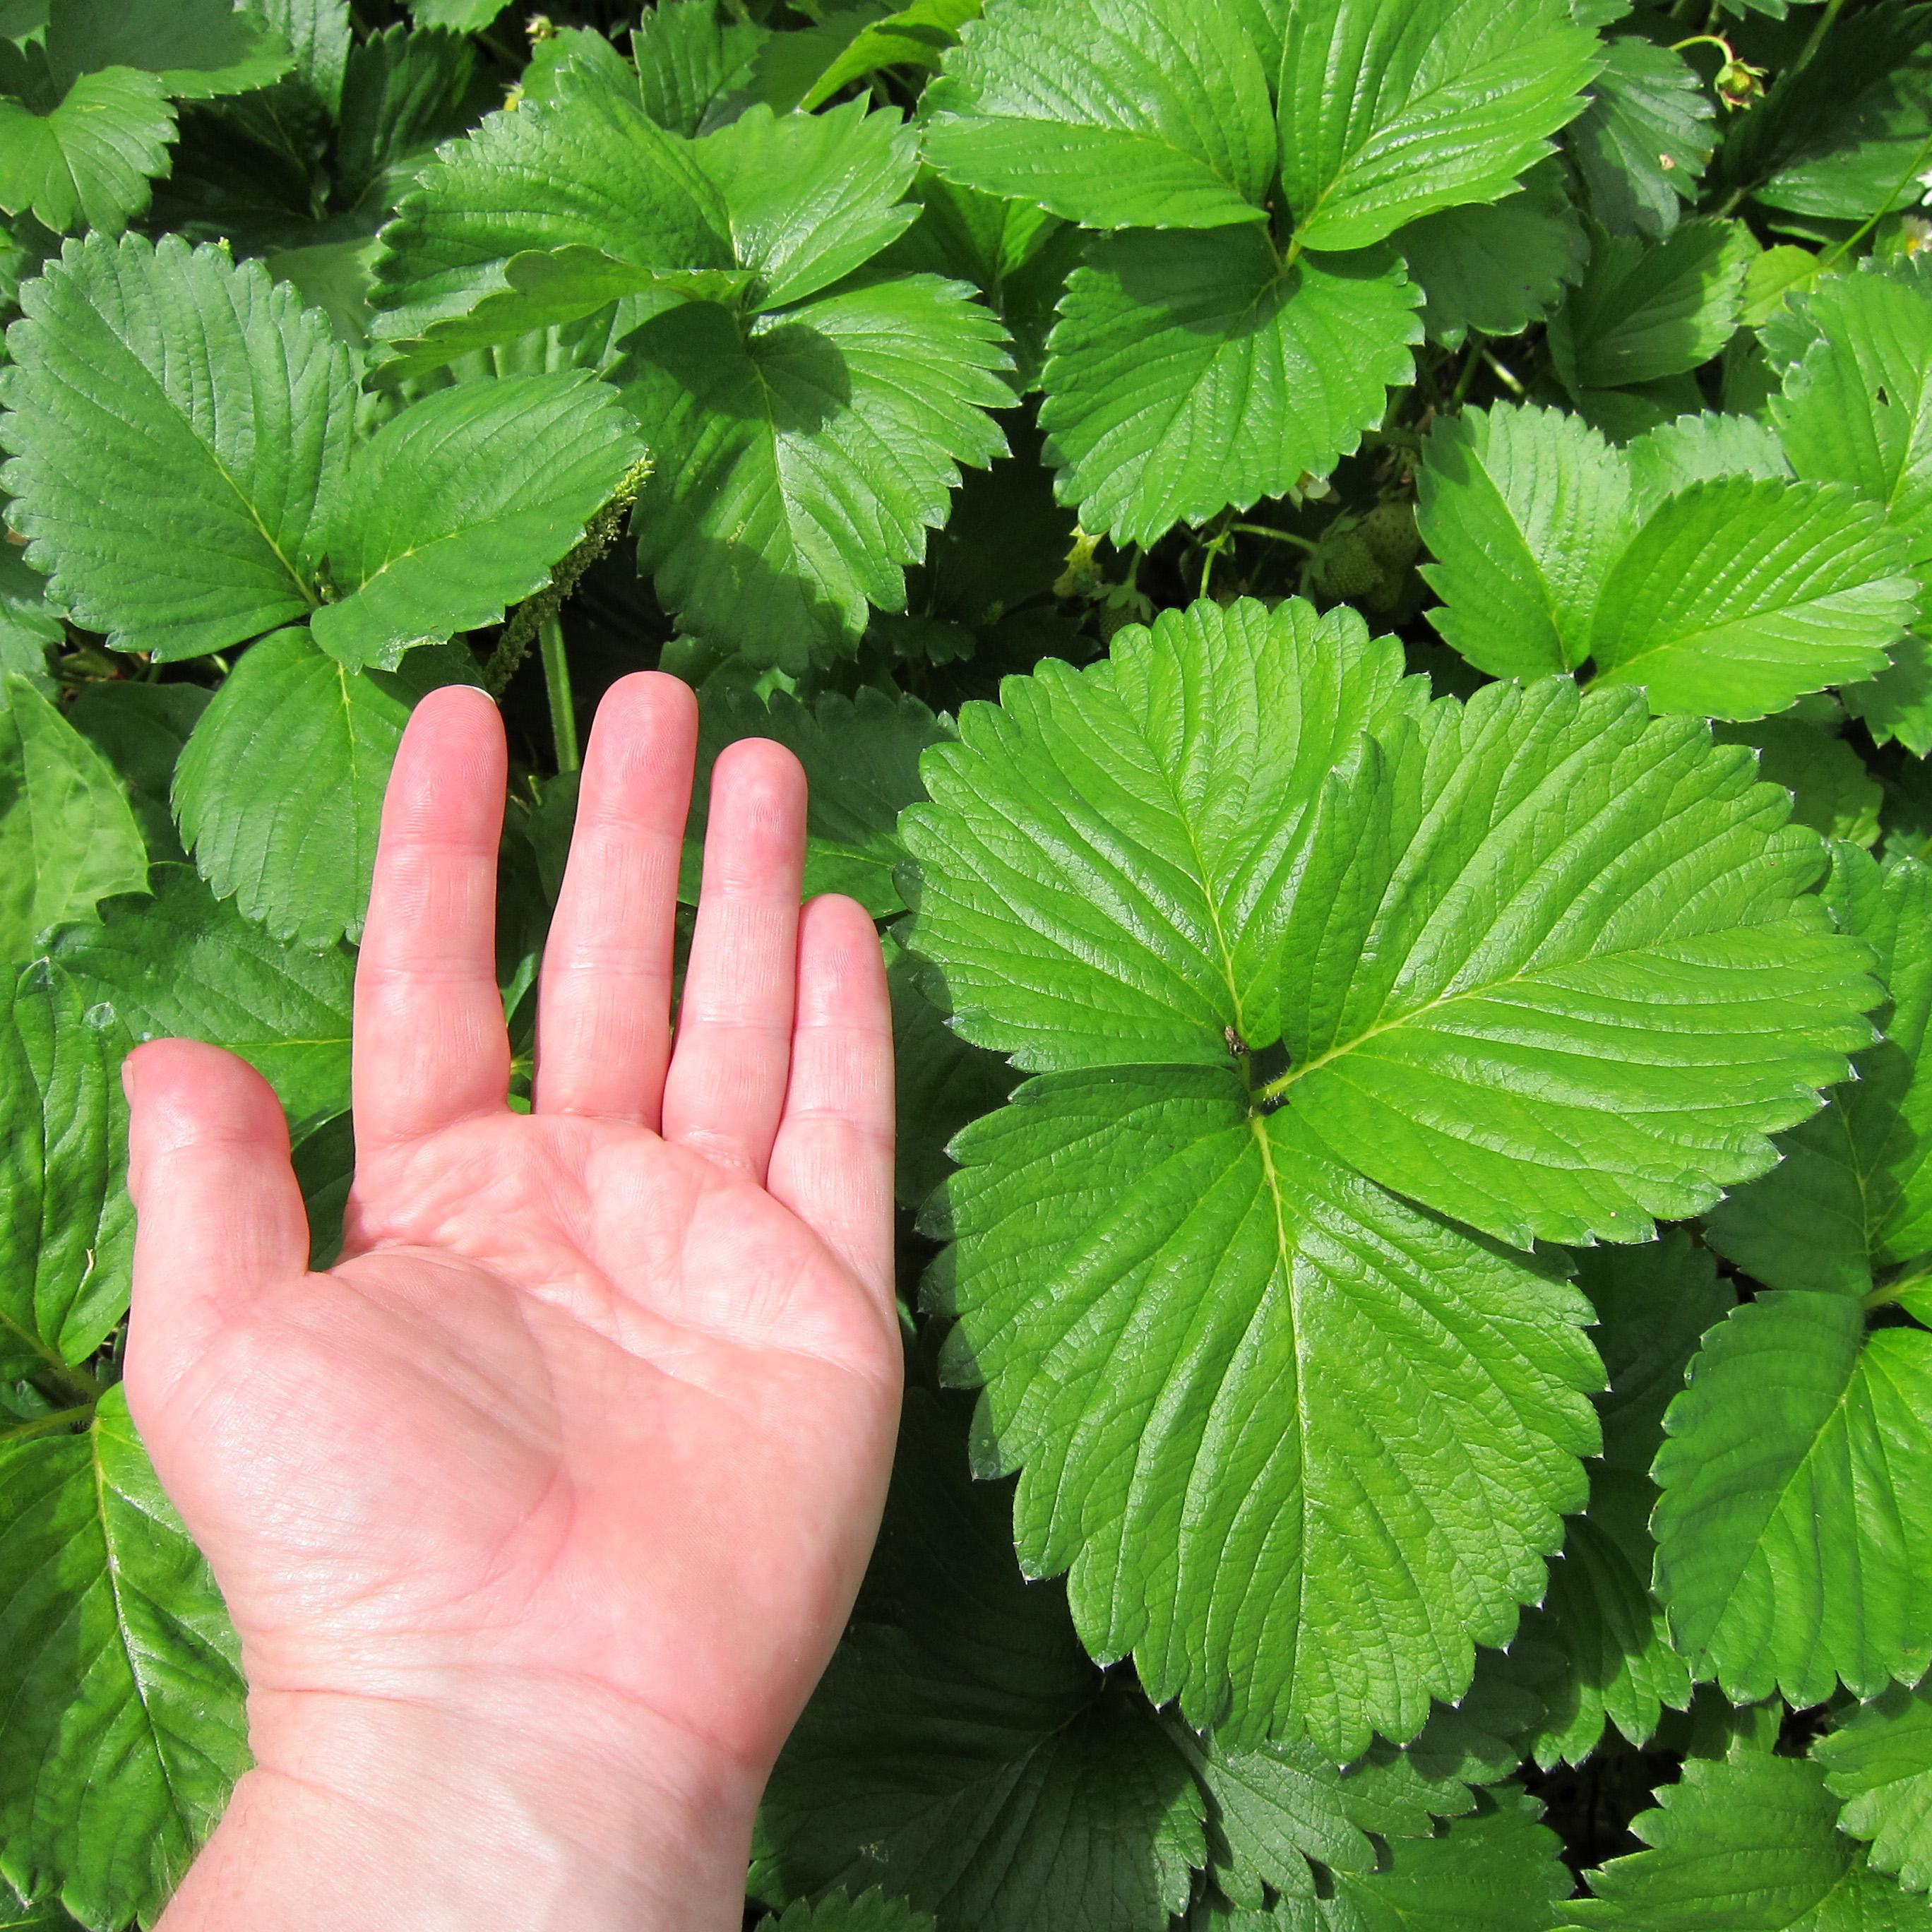Strawberry leaf: (901, 1028, 1628, 1792), (1277, 655, 1890, 1272), (886, 577, 1488, 1085), (0, 207, 375, 672), (609, 278, 1058, 658), (1023, 202, 1438, 557), (379, 44, 941, 303), (308, 343, 642, 674), (175, 623, 469, 968)
